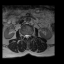CCS_normal: (26, 33, 28, 40)
LFS_normal: (30, 32, 32, 38)
LLS_normal: (28, 33, 30, 38)
RFS_normal: (22, 33, 24, 39)
RLS_normal: (24, 33, 26, 39)
